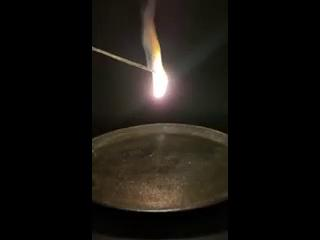Fire: (147, 29, 169, 100)
